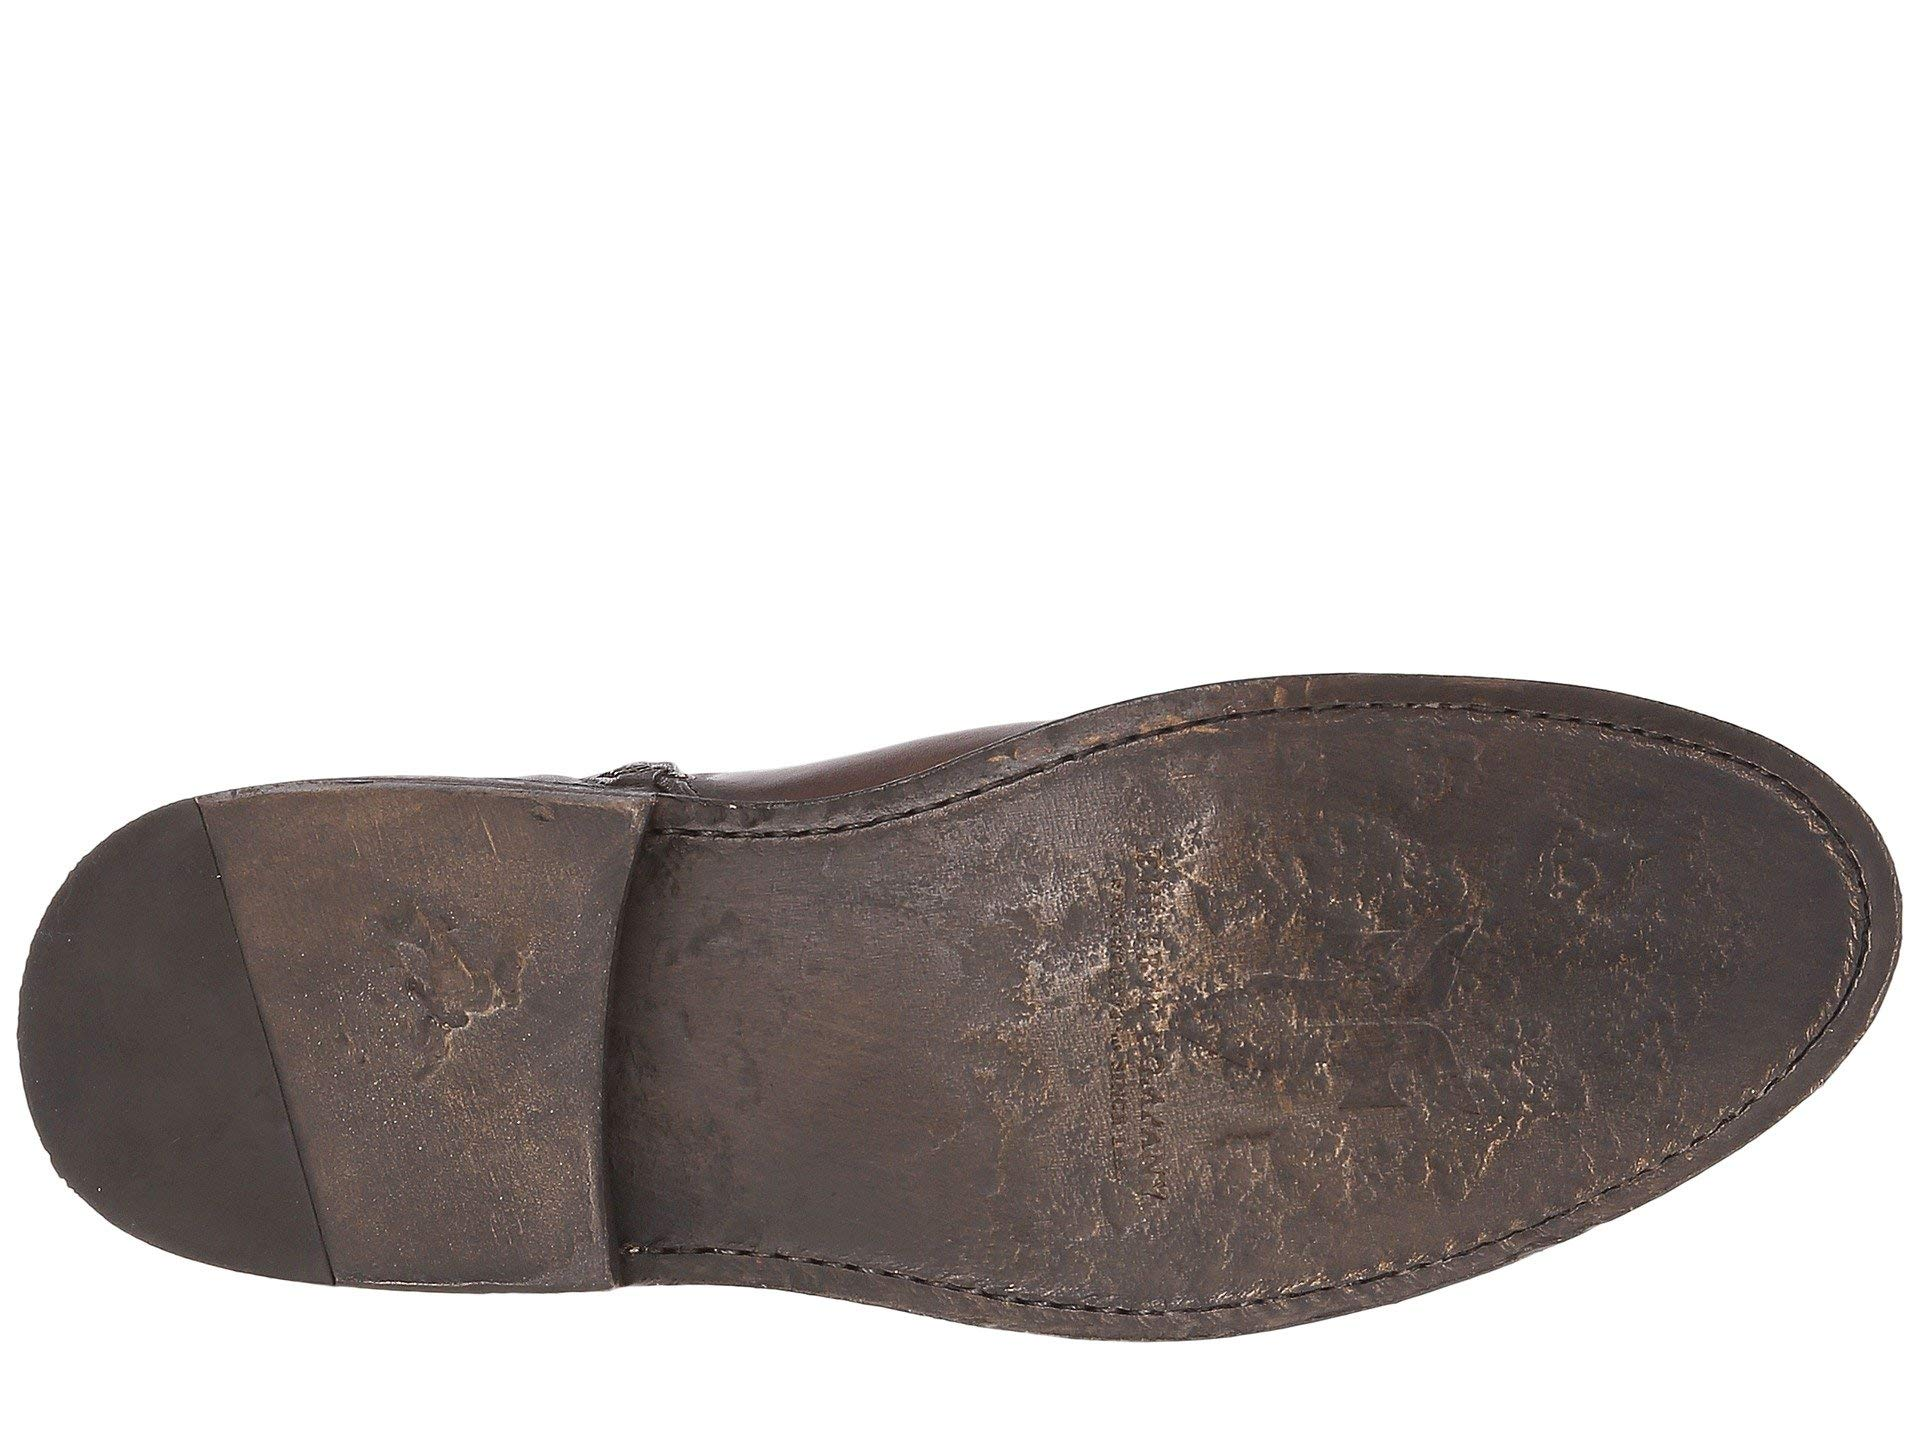line: (1451, 672, 1784, 839)
other: (1046, 740, 1246, 1265)
quad: (206, 784, 671, 1295)
text: (1046, 740, 1246, 1265)
